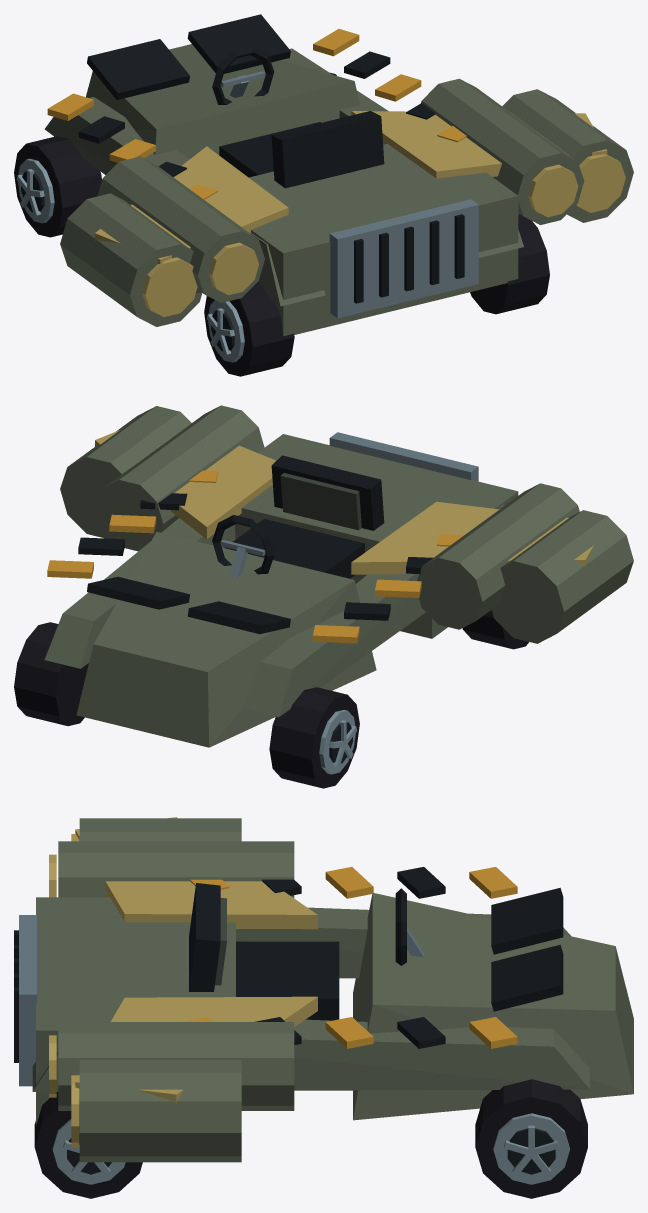
The model's file is kart.glb.
The picture shows the model from 3 angles, top to bottom: view 1: azimuth 30°, elevation 25°; view 2: azimuth 150°, elevation 25°; view 3: azimuth 270°, elevation 25°; orthographic projection. The views are drawn at different scales.
Visible parts, largest first — view 1: identity-dropship-dropship-armored-cargo-fuselage, identity-dropship-motif-engine-pods, identity-dropship-motif-wings, identity-dropship-driver-cockpit, wheel-front-left, wheel-rear-left, identity-dropship-motif-hazard-stripes, wheel-rear-right; view 2: identity-dropship-dropship-armored-cargo-fuselage, identity-dropship-motif-engine-pods, identity-dropship-driver-cockpit, identity-dropship-motif-wings, wheel-front-left, identity-dropship-motif-hazard-stripes, wheel-front-right, wheel-rear-left; view 3: identity-dropship-dropship-armored-cargo-fuselage, identity-dropship-motif-engine-pods, identity-dropship-motif-wings, identity-dropship-driver-cockpit, wheel-front-right, identity-dropship-motif-hazard-stripes, wheel-rear-right.
Boxes of the visible parts, x1=… form: identity-dropship-dropship-armored-cargo-fuselage: x1=44, y1=14, x2=633, y2=335; identity-dropship-motif-engine-pods: x1=97, y1=78, x2=584, y2=302; identity-dropship-motif-wings: x1=95, y1=111, x2=607, y2=263; identity-dropship-driver-cockpit: x1=212, y1=46, x2=384, y2=188; wheel-front-left: x1=14, y1=136, x2=101, y2=237; wheel-rear-left: x1=204, y1=282, x2=294, y2=376; identity-dropship-motif-hazard-stripes: x1=47, y1=29, x2=466, y2=199; wheel-rear-right: x1=470, y1=214, x2=549, y2=314; identity-dropship-dropship-armored-cargo-fuselage: x1=44, y1=406, x2=633, y2=747; identity-dropship-motif-engine-pods: x1=96, y1=405, x2=579, y2=629; identity-dropship-driver-cockpit: x1=212, y1=455, x2=384, y2=578; identity-dropship-motif-wings: x1=95, y1=425, x2=593, y2=574; wheel-front-left: x1=269, y1=687, x2=359, y2=788; identity-dropship-motif-hazard-stripes: x1=47, y1=470, x2=464, y2=643; wheel-front-right: x1=14, y1=622, x2=88, y2=726; wheel-rear-left: x1=462, y1=610, x2=528, y2=649; identity-dropship-dropship-armored-cargo-fuselage: x1=14, y1=818, x2=633, y2=1162; identity-dropship-motif-engine-pods: x1=49, y1=841, x2=294, y2=1110; identity-dropship-motif-wings: x1=75, y1=817, x2=317, y2=1103; identity-dropship-driver-cockpit: x1=189, y1=883, x2=423, y2=1020; wheel-front-right: x1=475, y1=1079, x2=587, y2=1198; identity-dropship-motif-hazard-stripes: x1=183, y1=867, x2=517, y2=1048; wheel-rear-right: x1=34, y1=1092, x2=142, y2=1198.
Bounding box in the file's own units: 3 × 1.09 × 2.76.
